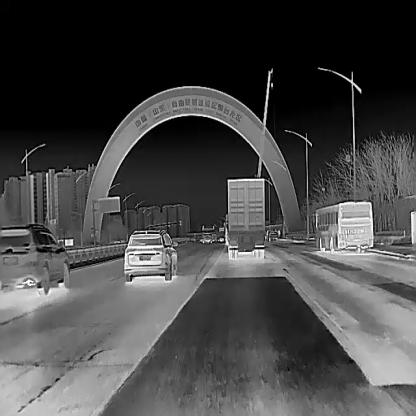bus: (315, 200, 373, 254)
car: (1, 223, 70, 295), (123, 229, 177, 280), (266, 229, 277, 241), (202, 233, 211, 243)
truck: (226, 178, 264, 258)
